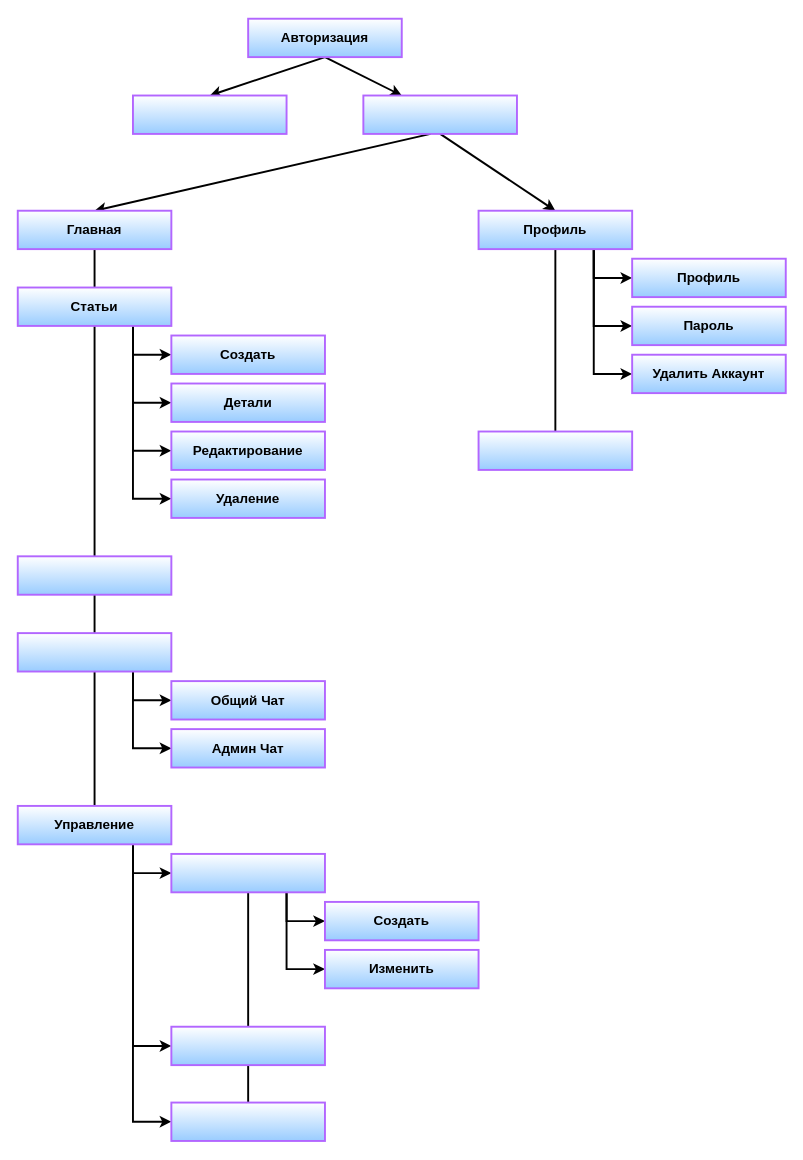
Image size: 803x1160. Some labels were removed from this diagram. Each missing label, with the box of its shape:
Вход: (362, 94, 517, 134)
Выход: (477, 430, 633, 470)
Общение: (16, 632, 172, 672)
Пользователи: (170, 1025, 325, 1066)
Регистрация: (132, 94, 287, 134)
Роли: (170, 852, 325, 893)
Утверждения: (170, 1101, 325, 1141)
Файлы: (16, 555, 172, 595)
